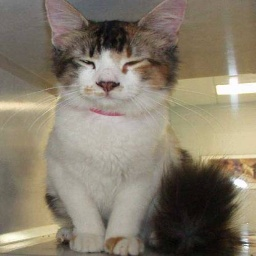cat: (38, 0, 183, 254)
